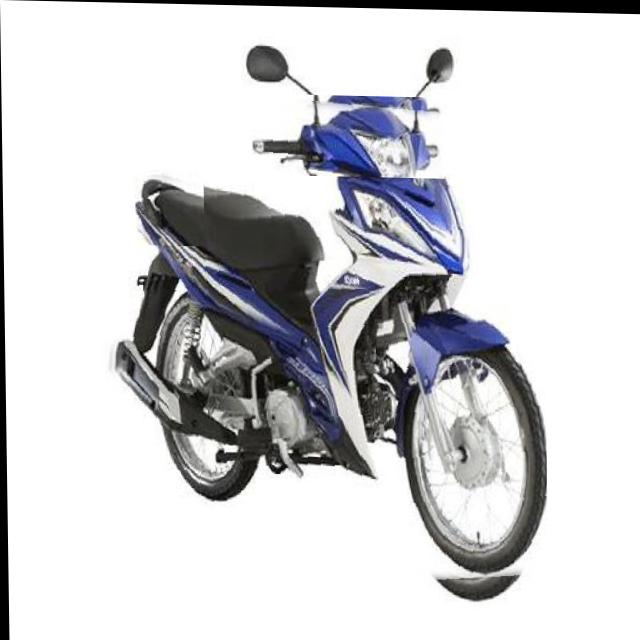All: (97, 90, 547, 603)
Head: (250, 94, 445, 177)
Tail: (126, 171, 204, 246)
